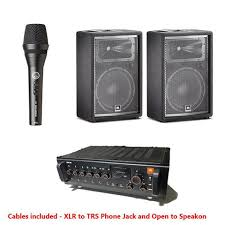microphone: (10, 13, 55, 130)
speaker: (69, 19, 218, 139)
